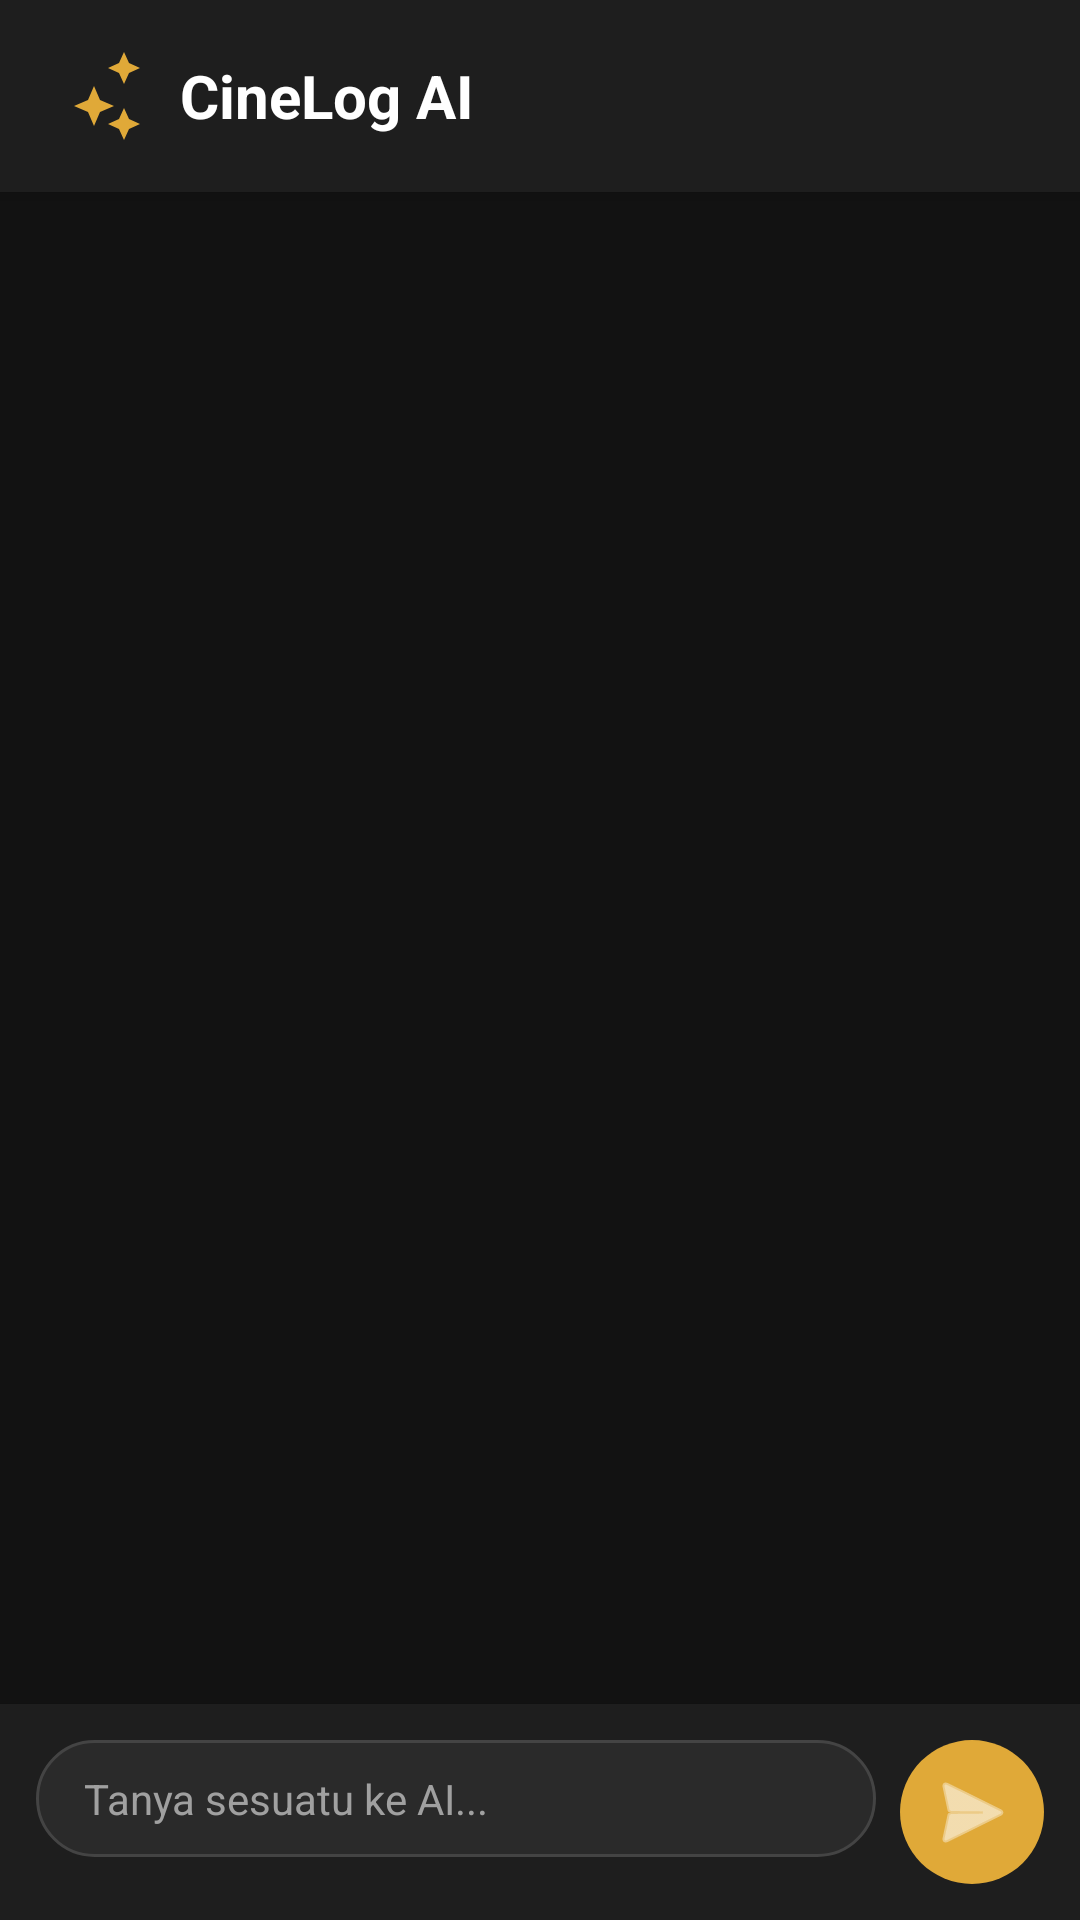

Icon bounding boxes for this 1080px x 1920px phone screenshot, format bbox(x1, y1, x2, y2):
send: bbox(900, 1740, 1044, 1884)
